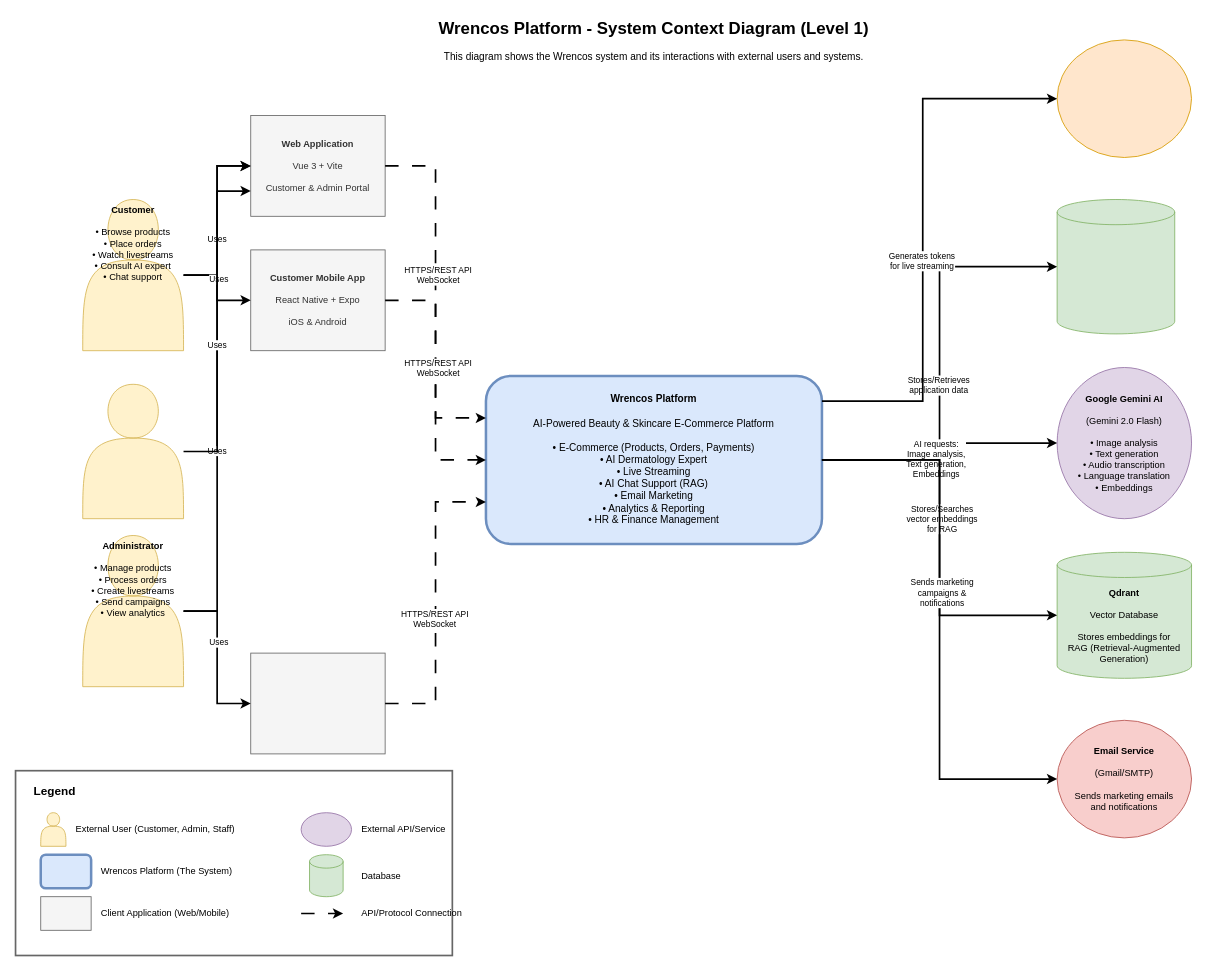
This 1206x970 diagram has some shape labels left out. The box of each missing label's shape, as (x1, y1, x2, y2) in pixels:
Admin Mobile App React Native + Expo Livestream Broadcasting: (250, 652, 385, 754)
Agora SDK Real-time Video Streaming Service Powers live streaming: (1056, 39, 1192, 158)
MongoDB Atlas Cloud Database Stores all application data: (1056, 199, 1175, 334)
Support Staff • Handle customer chats • Manage escalations: (82, 383, 184, 519)
